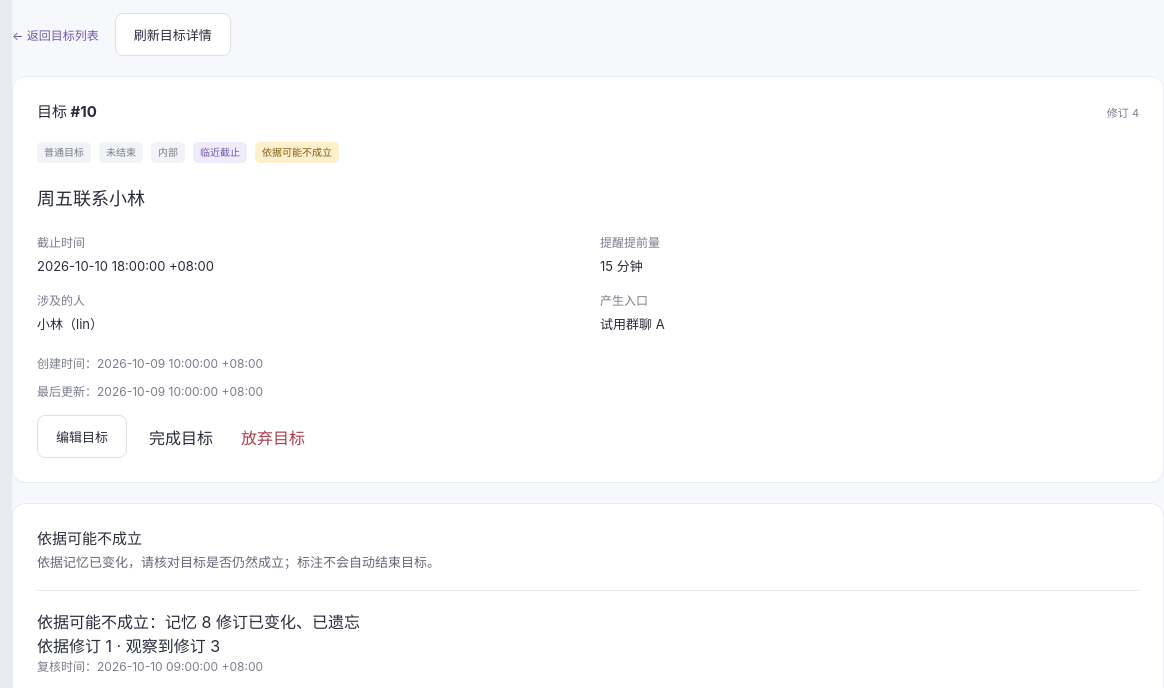
it: 目标去重展示待复核和已判断的真实结果
The width and height of the screenshot is (1164, 688).
Click the button "刷新目标详情" at (173, 34), box [115,13,231,56]
(page scrolled)
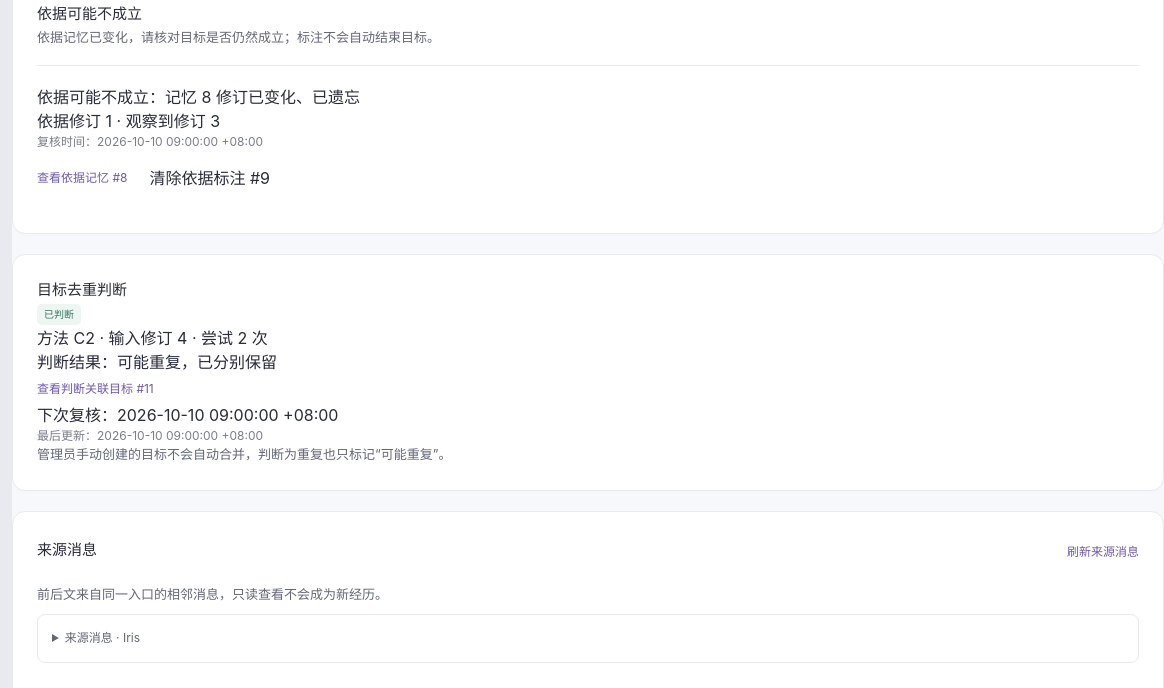
Now the text "已判断" is shown, box [37,304,81,325]
Now the text "判断结果：可能重复，已分别保留" is shown, box [37,352,277,372]
